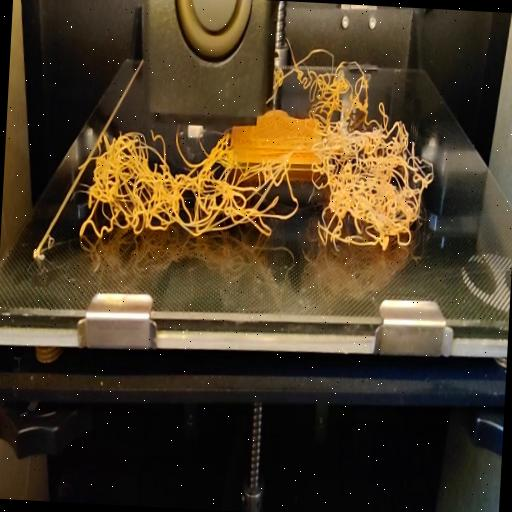spaghetti: (72, 116, 440, 270), (268, 30, 414, 134)
